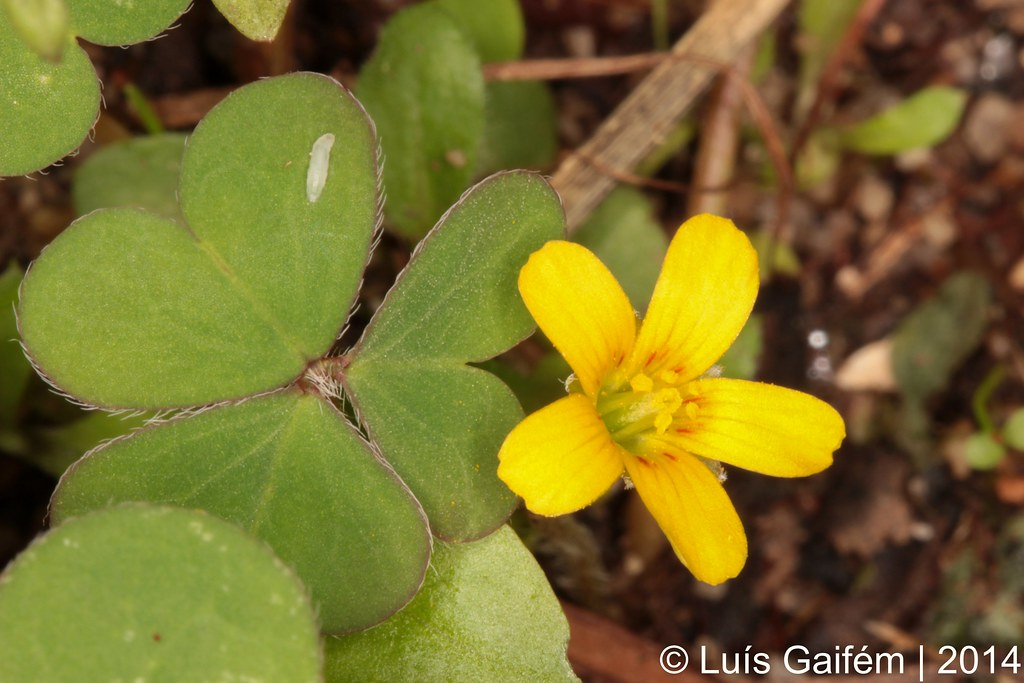oxalis: (33, 115, 546, 683)
